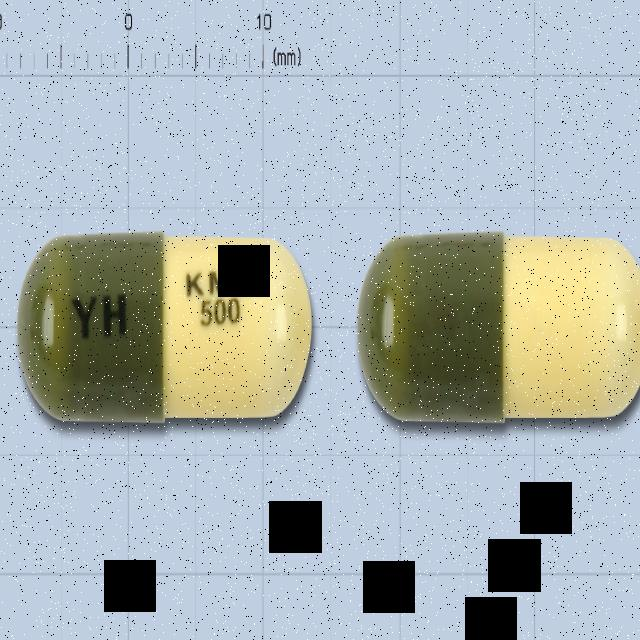Kymoxin Cap-500mg: (17, 232, 312, 425)
